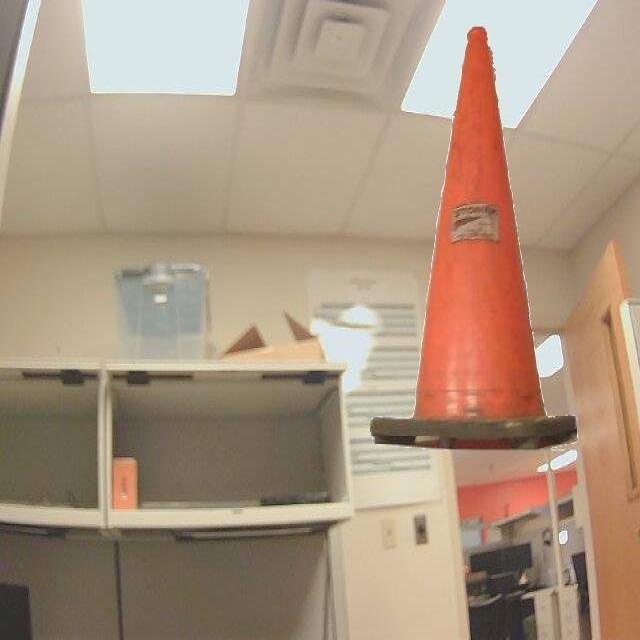traffic cone: (360, 19, 599, 461)
